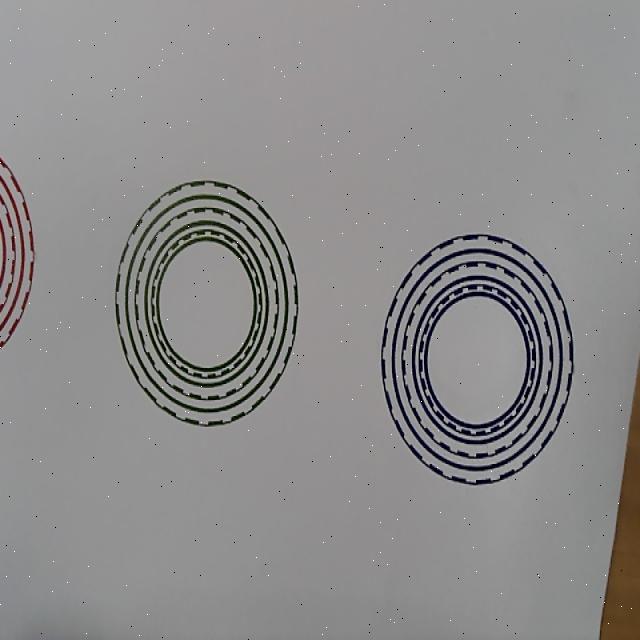b: (380, 232, 573, 486)
g: (112, 180, 298, 428)
